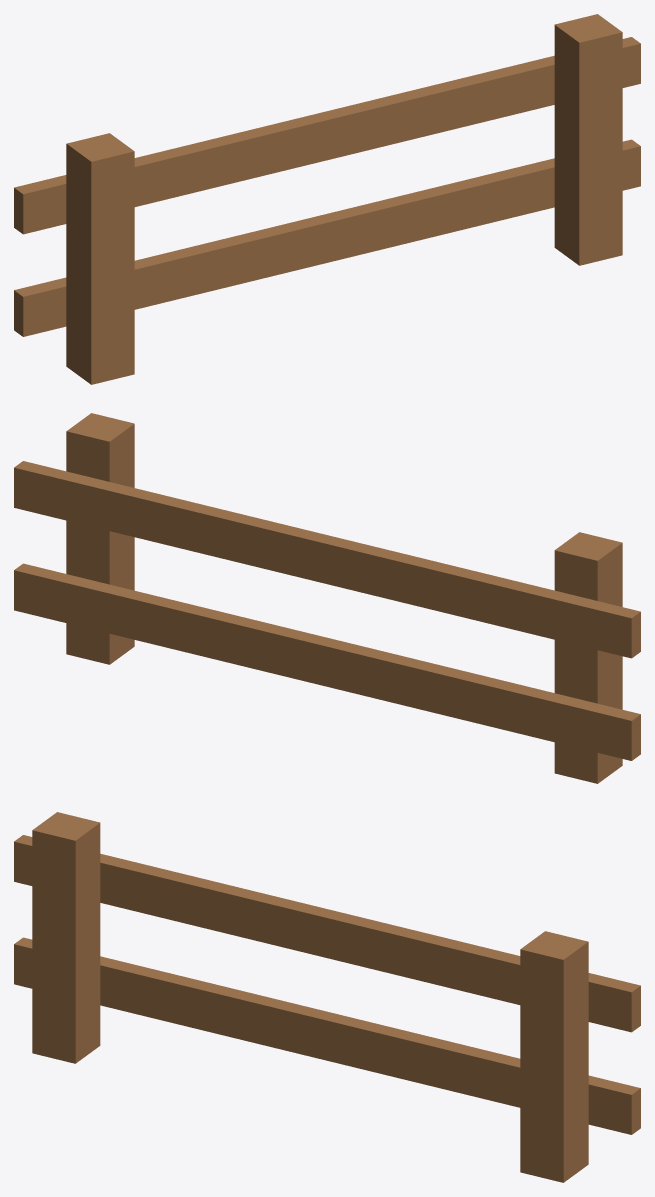
File: fence_planks.glb
The picture shows the model from 3 angles, top to bottom: view 1: azimuth 30°, elevation 25°; view 2: azimuth 150°, elevation 25°; view 3: azimuth 330°, elevation 25°; orthographic projection.
Parts seen in each view (by area): view 1: fence_planks; view 2: fence_planks; view 3: fence_planks.
Part boxes in pixels (box(x1,y1,x2,y2)): fence_planks: box(14, 14, 640, 384); fence_planks: box(14, 413, 640, 783); fence_planks: box(14, 812, 640, 1182).
Size of the model in its own units: 1 by 0.345 by 0.0959.
